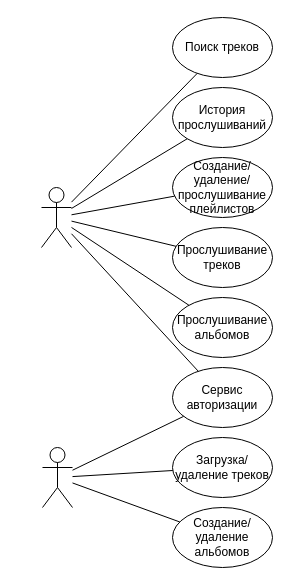
Some shapes in this 290 by 585 pixel diagram are drawn without their labels. The centre of each missing label's shape, as x and y in pixels:
Админ: pixel 57 477
Пользователь: pixel 56 217
